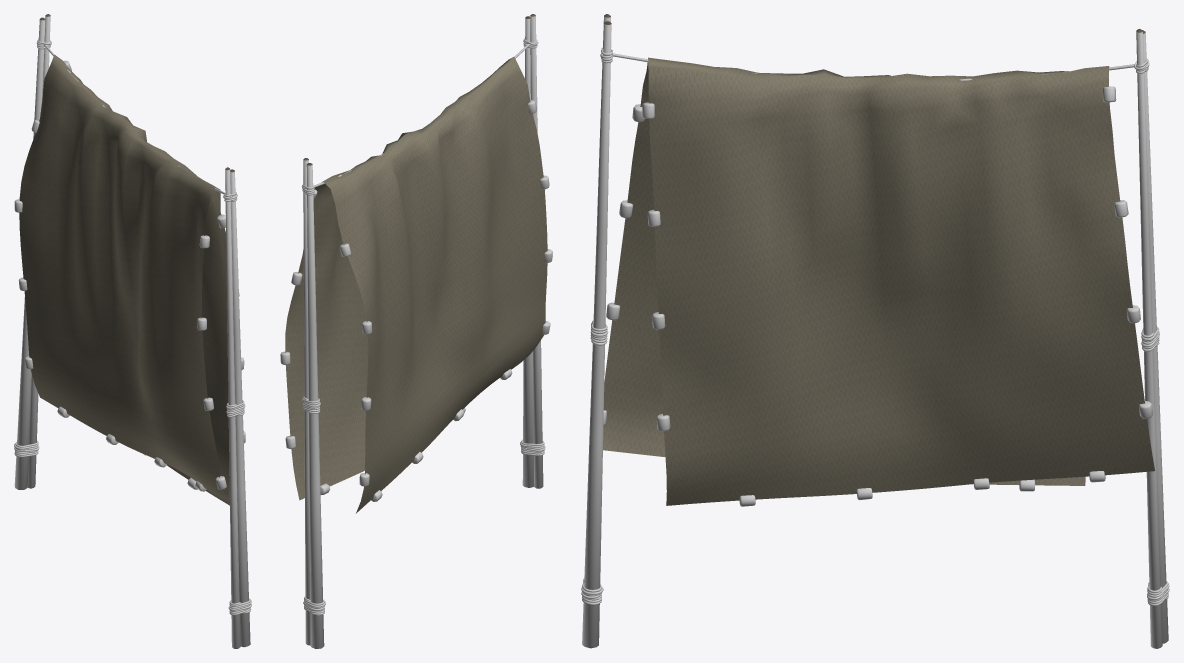
Rendered from SM_Fish_net_1_01.fbx.
3 views of the same model, side by side, from view 1: azimuth 30°, elevation 25°; view 2: azimuth 150°, elevation 25°; view 3: azimuth 270°, elevation 25° (orthographic). The views are drawn at different scales.
Parts seen in each view (by area): view 1: SM_Fish_net_1_01_LOD0; view 2: SM_Fish_net_1_01_LOD0; view 3: SM_Fish_net_1_01_LOD0.
Part boxes in pixels (x1,y1,x2,y2): SM_Fish_net_1_01_LOD0: [14, 14, 251, 648]; SM_Fish_net_1_01_LOD0: [280, 14, 552, 648]; SM_Fish_net_1_01_LOD0: [581, 14, 1169, 648].
Size of the model in its own units: 76.29 by 387 by 453.
